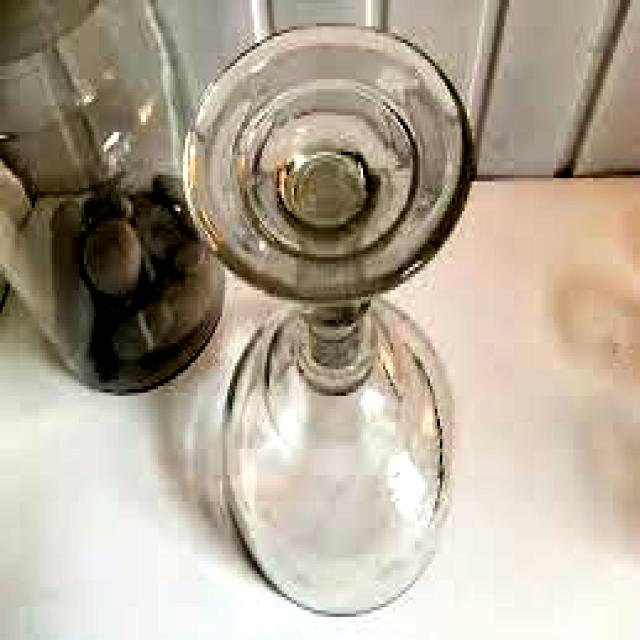Glass: (182, 20, 478, 621)
